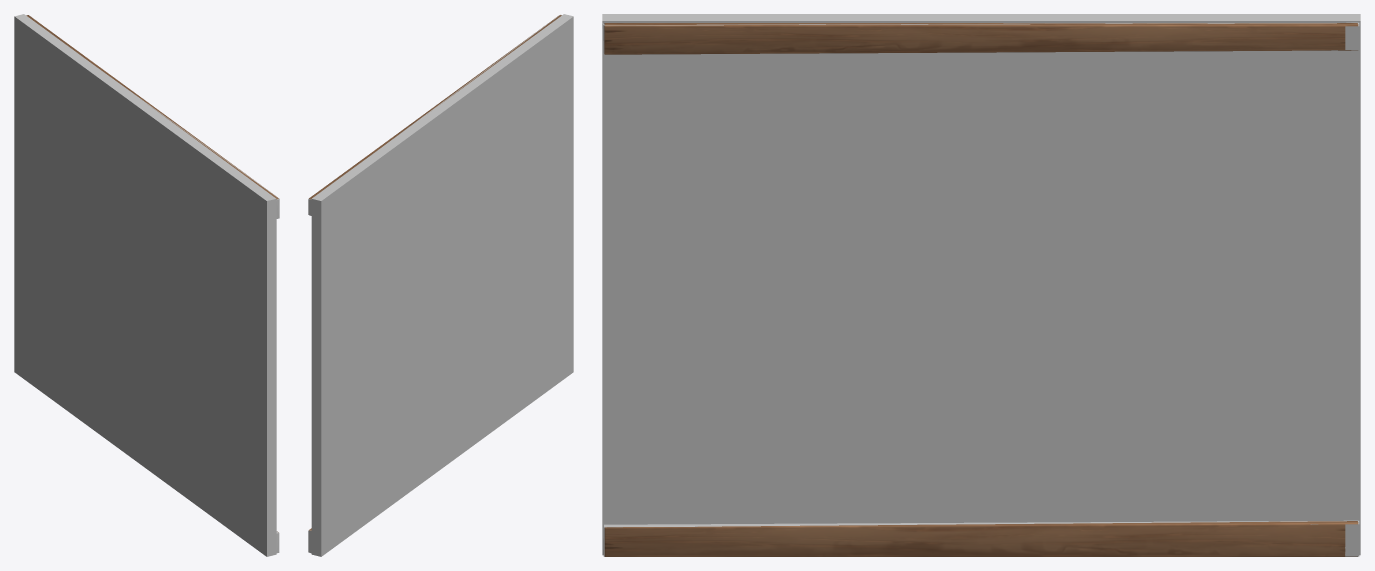
File: SM_Hangar01W_4.fbx
3 views of the same model, side by side, from view 1: azimuth 30°, elevation 25°; view 2: azimuth 150°, elevation 25°; view 3: azimuth 270°, elevation 25° (orthographic). The views are drawn at different scales.
Visible parts, largest first — view 1: SM_Hangar01W_4_ConvexHulls, SM_Hangar01W_4; view 2: SM_Hangar01W_4_ConvexHulls, SM_Hangar01W_4; view 3: SM_Hangar01W_4_ConvexHulls, SM_Hangar01W_4.
Part boxes in pixels (bbox=[...]): SM_Hangar01W_4_ConvexHulls: bbox=[14, 14, 279, 556]; SM_Hangar01W_4: bbox=[26, 15, 278, 532]; SM_Hangar01W_4_ConvexHulls: bbox=[308, 14, 573, 556]; SM_Hangar01W_4: bbox=[309, 15, 561, 530]; SM_Hangar01W_4_ConvexHulls: bbox=[602, 14, 1360, 556]; SM_Hangar01W_4: bbox=[604, 23, 1358, 556].
Size of the model in its own units: 13.99 by 452 by 351.
4 materials, 3 textured.
